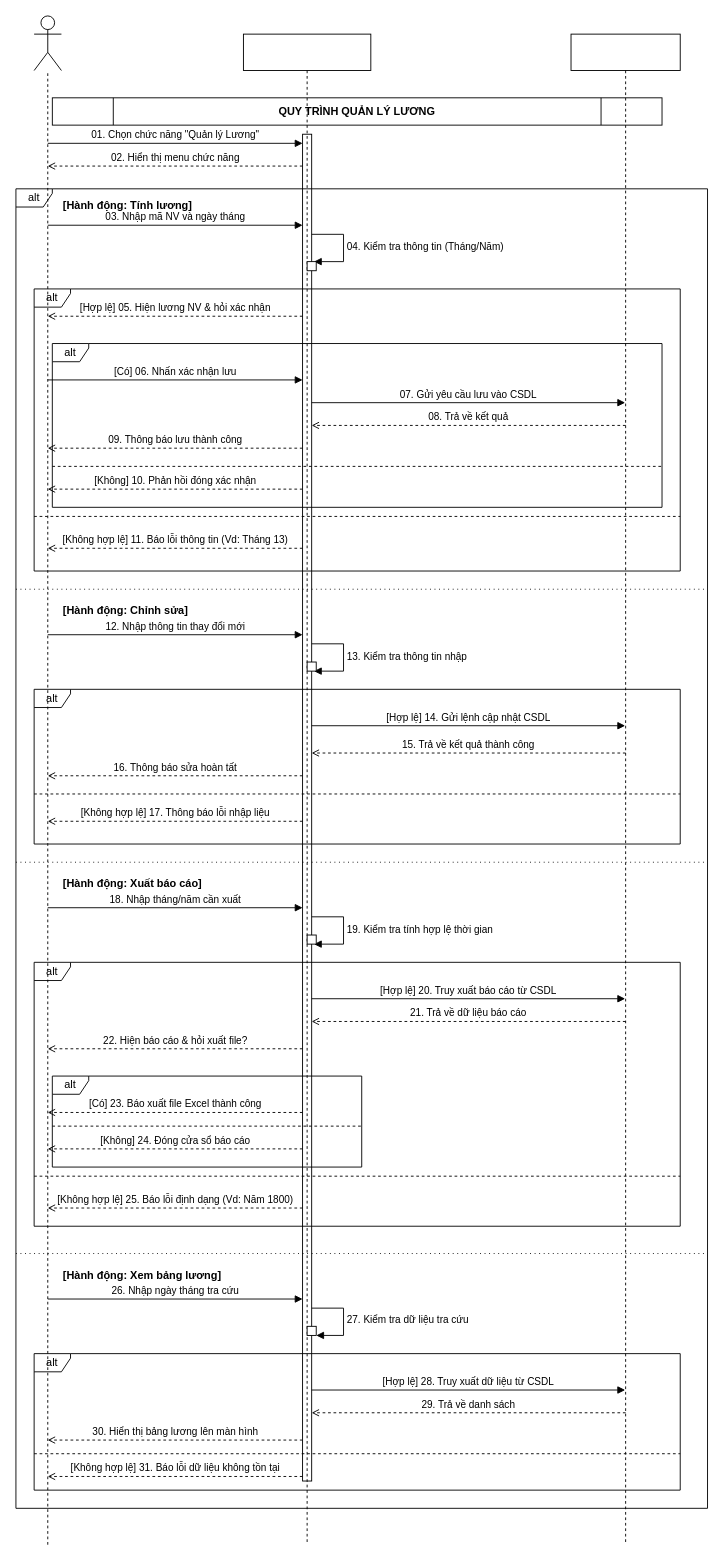
The diagram is 724 pixels wide and 1562 high, and some of its shapes have lost their labels. The shapes that lost their labels are listed below. From the top down, each one's box as (x1, y1, x2, y2) in pixels, then its label:
(33, 15, 61, 71): HR
(243, 33, 371, 1545): Hệ thống Quản lý
(570, 33, 680, 1545): CSDL Lương
